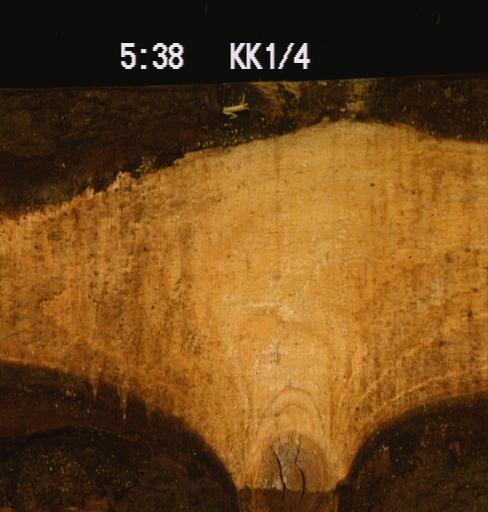sound_knot: (259, 434, 320, 511)
wave: (0, 71, 487, 221), (0, 358, 239, 511), (333, 388, 487, 511)
